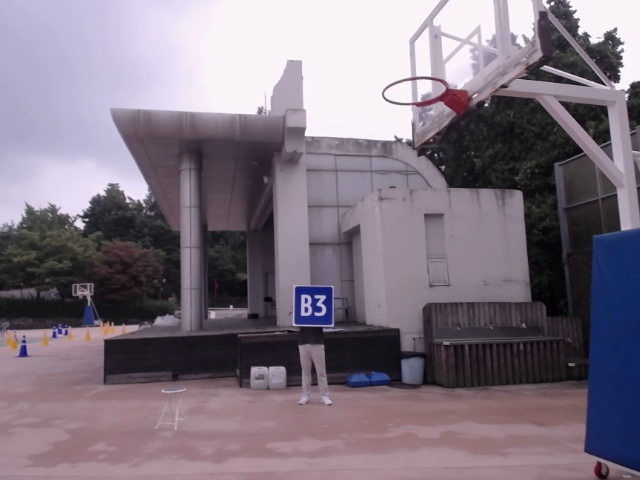delivery_b3: (293, 284, 334, 327)
